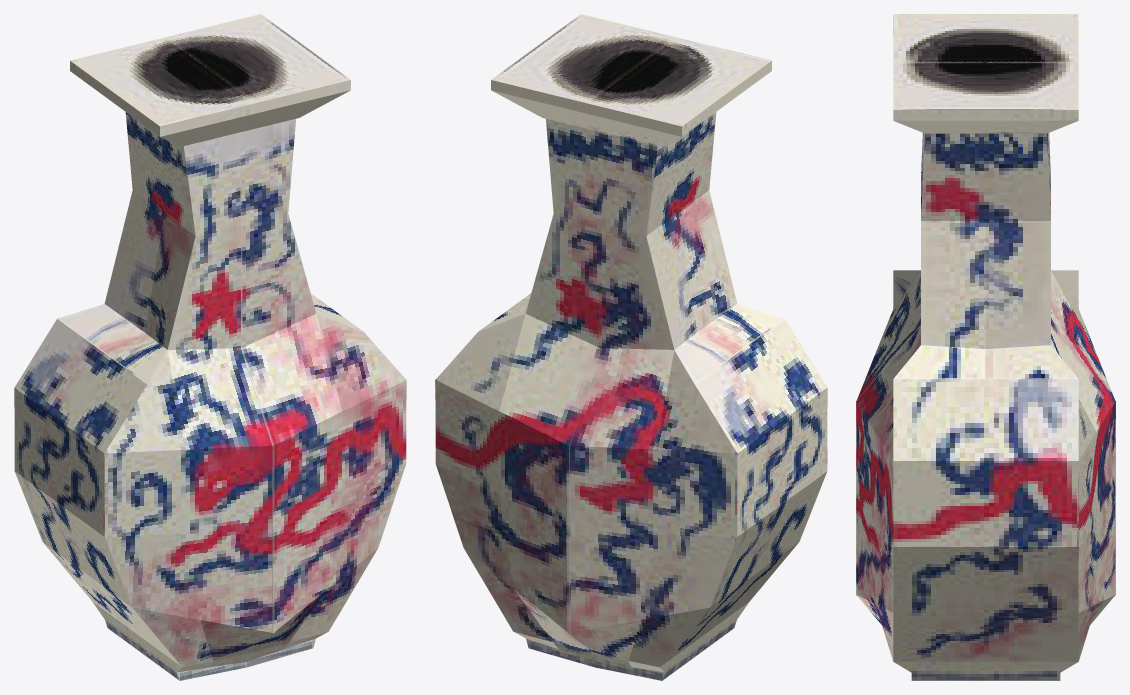
File: jarron.glb
3 views of the same model, side by side, from view 1: azimuth 30°, elevation 25°; view 2: azimuth 150°, elevation 25°; view 3: azimuth 270°, elevation 25° (orthographic). The views are drawn at different scales.
Visible parts, largest first — view 1: Cube; view 2: Cube; view 3: Cube.
Boxes of the visible parts, x1,y1,x2,y2 form: Cube: (14, 14, 406, 680); Cube: (435, 14, 827, 680); Cube: (856, 14, 1115, 680).
Bounding box in the file's own units: 2.79 × 5.04 × 2.02.
1 material, 1 textured.
